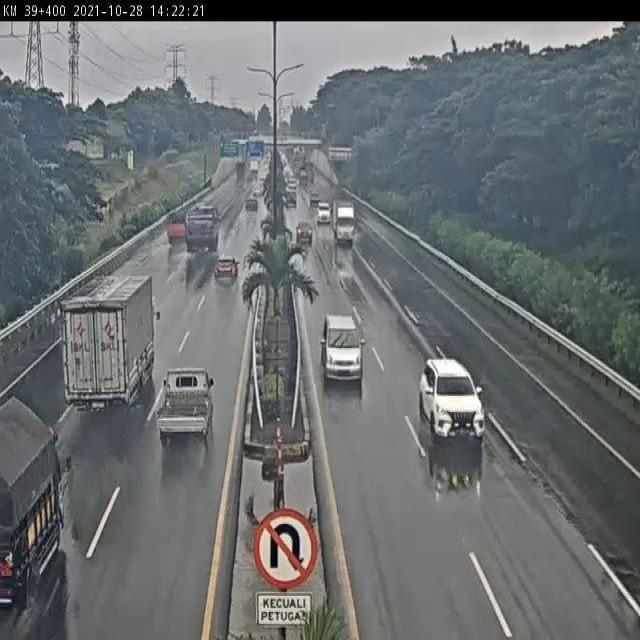car: (418, 360, 483, 444), (155, 366, 213, 451), (318, 312, 367, 383), (212, 256, 240, 285), (295, 219, 313, 244)
truck-l-: (62, 274, 157, 410), (185, 203, 221, 253)
truck-m-: (0, 392, 66, 612)
truck-s-: (331, 199, 356, 245), (164, 210, 189, 242)
